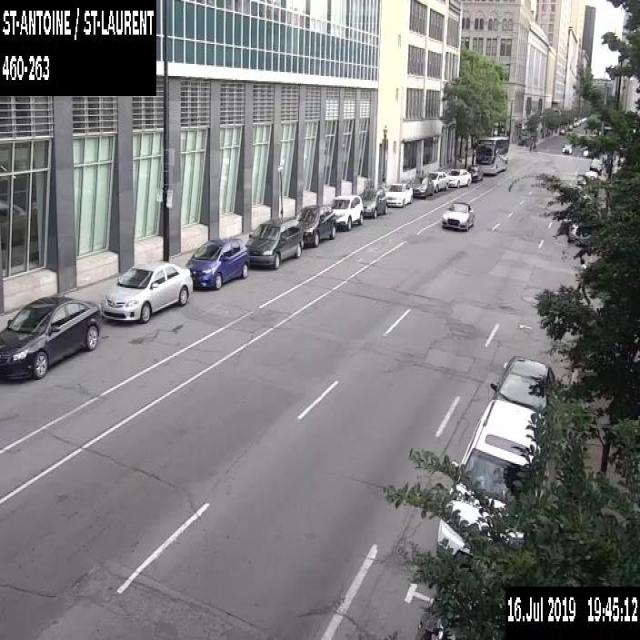bus: (474, 135, 508, 174)
vehicle: (436, 397, 547, 565), (0, 295, 101, 381), (102, 258, 192, 322), (490, 353, 555, 419), (184, 236, 248, 289), (244, 216, 302, 268), (296, 203, 336, 245), (330, 193, 363, 229), (441, 198, 473, 230), (360, 187, 388, 217), (385, 181, 412, 207), (567, 220, 591, 244), (445, 167, 471, 188), (410, 174, 433, 197), (427, 170, 449, 193), (582, 170, 599, 193), (466, 164, 482, 182), (588, 156, 602, 174), (562, 142, 572, 154), (582, 145, 589, 156), (558, 127, 565, 135), (567, 123, 572, 130)
